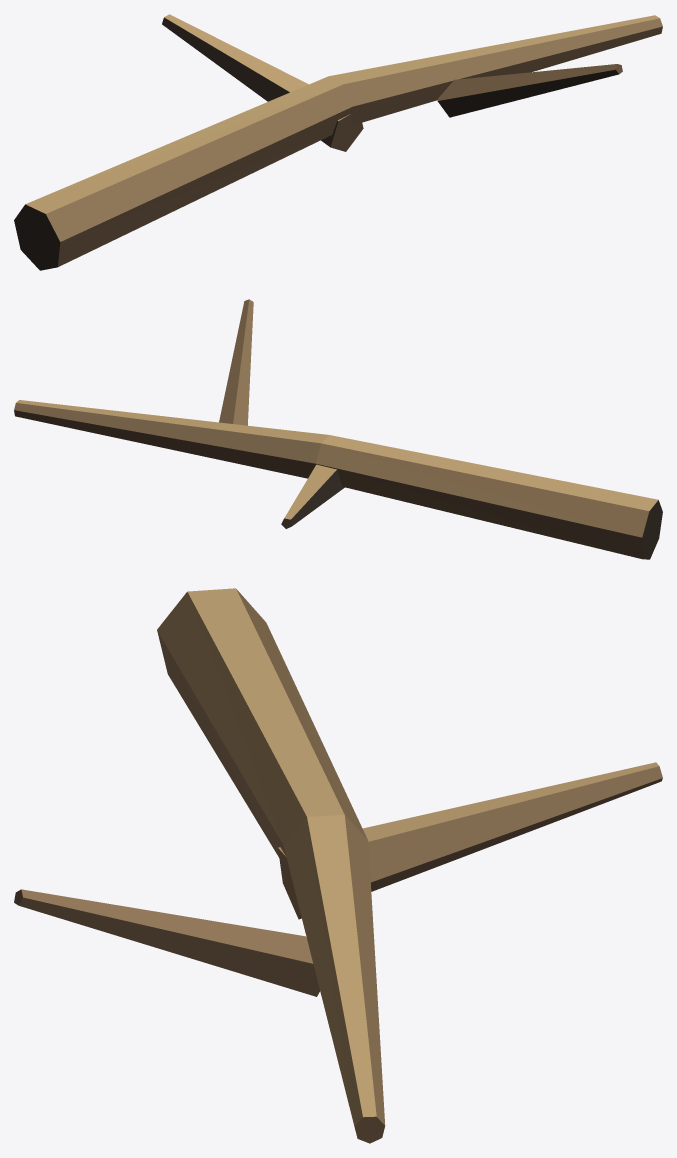
The model's file is TW_PROP_BRANCH_FORK_B_LOD0.glb.
3 renders of one model, top to bottom at view 1: azimuth 30°, elevation 25°; view 2: azimuth 150°, elevation 25°; view 3: azimuth 270°, elevation 25°, orthographic. The views are drawn at different scales.
Parts seen in each view (by area): view 1: TW_PROP_BRANCH_FORK_B_LOD0; view 2: TW_PROP_BRANCH_FORK_B_LOD0; view 3: TW_PROP_BRANCH_FORK_B_LOD0.
Boxes of the visible parts, bbox=[...] form: TW_PROP_BRANCH_FORK_B_LOD0: bbox=[14, 14, 662, 270]; TW_PROP_BRANCH_FORK_B_LOD0: bbox=[14, 299, 662, 559]; TW_PROP_BRANCH_FORK_B_LOD0: bbox=[14, 588, 662, 1143].
Bounding box in the file's own units: 1.39 × 0.2465 × 0.7391.
Materials: 1 (1 with a texture image).
